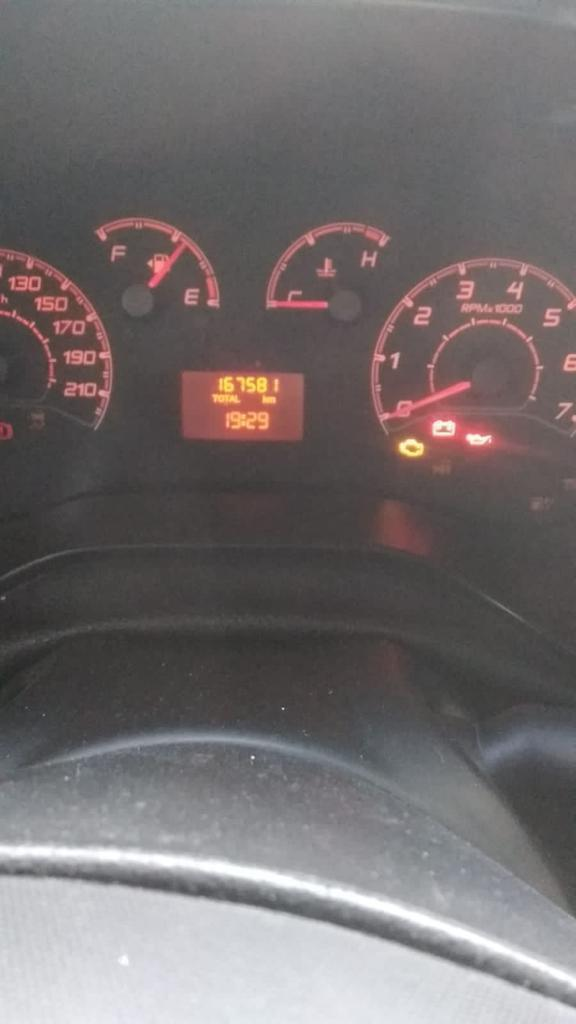1: (271, 377, 279, 393), (223, 411, 230, 429), (216, 375, 223, 391)
2: (246, 410, 257, 430)
5: (245, 375, 256, 393)
6: (223, 375, 235, 392)
7: (235, 375, 245, 392)
8: (256, 375, 267, 393)
9: (257, 410, 269, 430), (230, 410, 241, 429)
X: (241, 413, 246, 427), (211, 393, 218, 403), (267, 396, 276, 403), (234, 394, 240, 403), (262, 394, 267, 404), (218, 393, 223, 403), (224, 393, 229, 403), (229, 394, 234, 403)
odometer: (175, 368, 308, 444)
